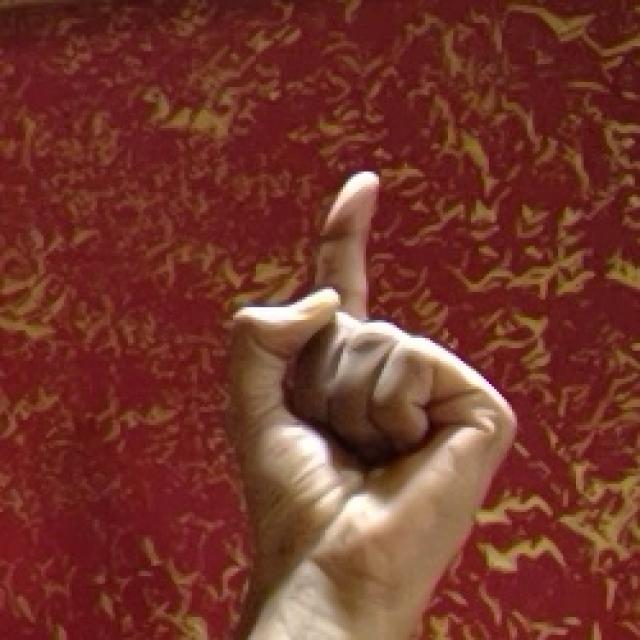Numeric-1: (224, 168, 522, 615)
